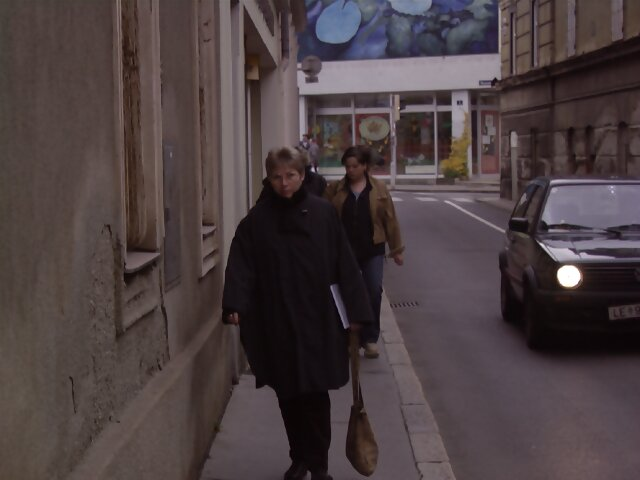person: (227, 140, 371, 468), (323, 143, 422, 361)
